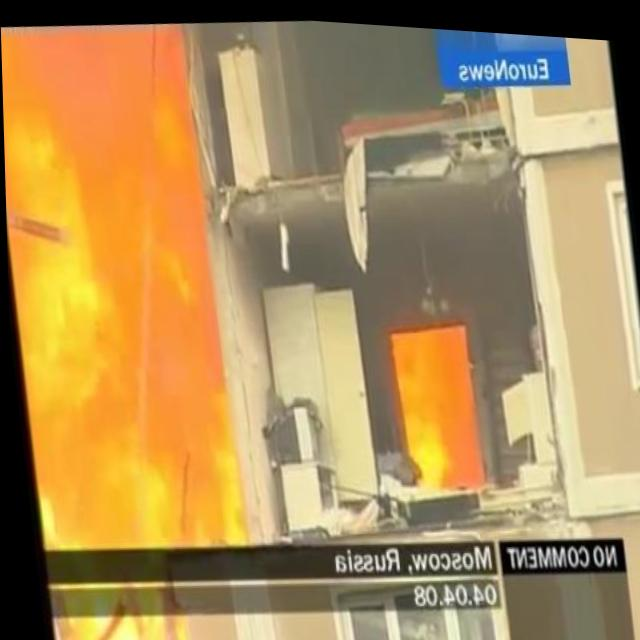fire: (0, 11, 240, 561), (390, 315, 483, 496)
